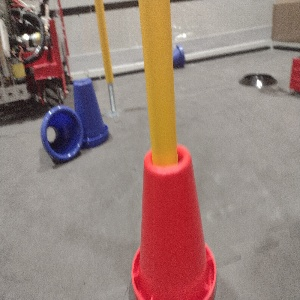Blue_1: (66, 74, 110, 148), (35, 107, 85, 163), (169, 38, 189, 71)
Red_1: (126, 142, 221, 299)
